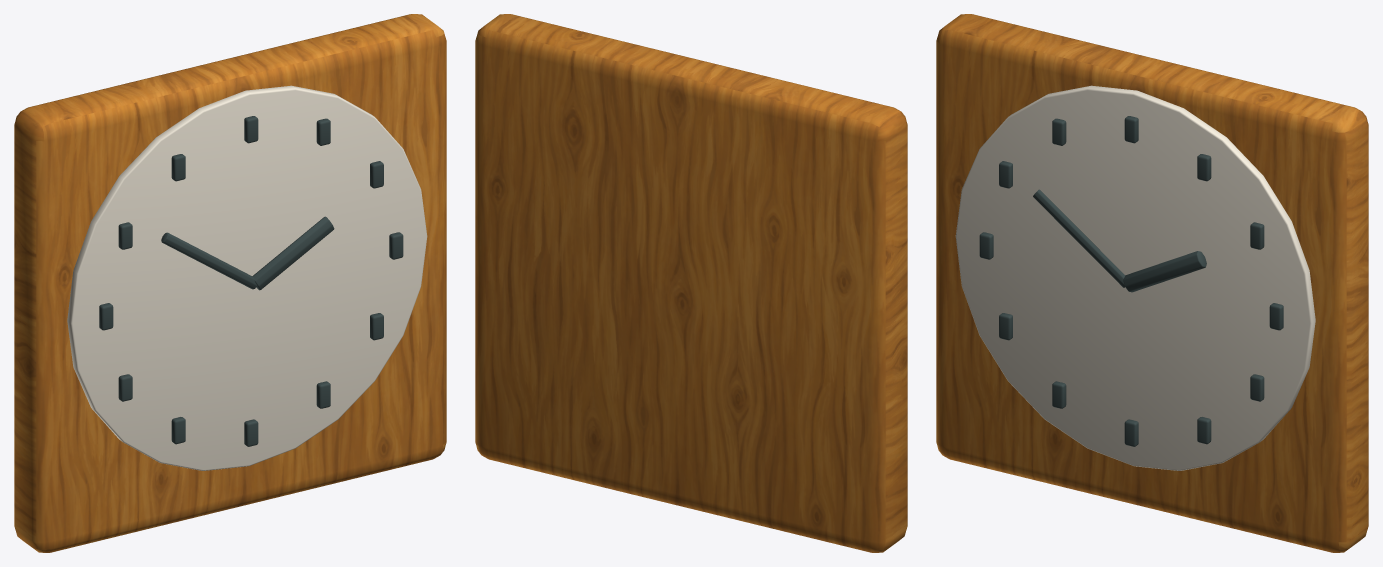
Rendered from wall-clock.glb.
3 renders of one model, left to right at view 1: azimuth 30°, elevation 25°; view 2: azimuth 150°, elevation 25°; view 3: azimuth 330°, elevation 25°, orthographic.
Visible parts, largest first — view 1: wall-clock; view 2: wall-clock; view 3: wall-clock.
Boxes of the visible parts, box(x1,y1,x2,y2) form: wall-clock: box(14, 14, 446, 552); wall-clock: box(475, 14, 907, 552); wall-clock: box(936, 14, 1368, 552).
Bounding box in the file's own units: 0.4 × 0.4 × 0.07.
Materials: 3 (1 with a texture image).
